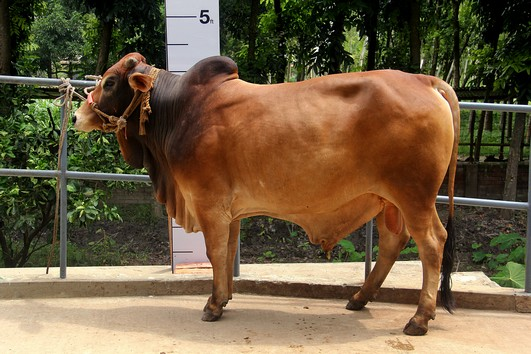cow: (65, 41, 470, 345)
